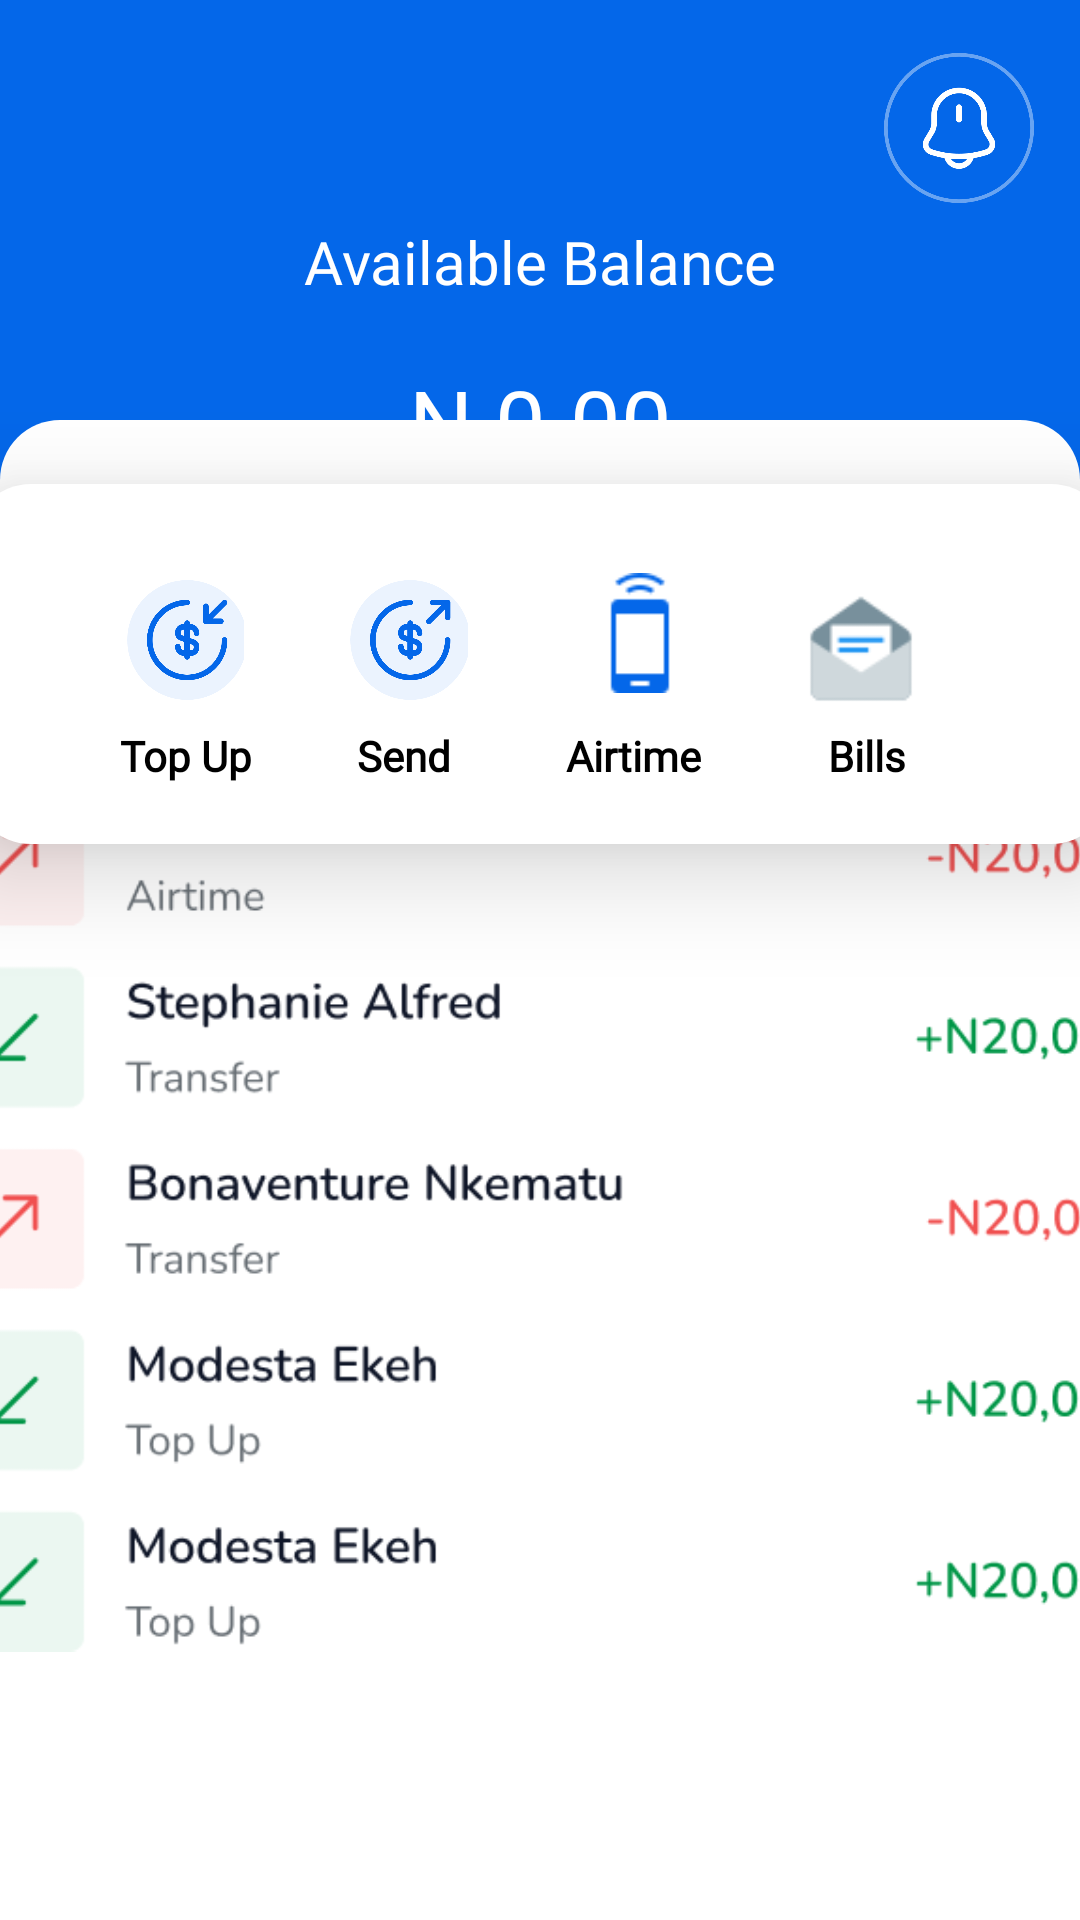

Named icons in this screenshot (1080px x 1920px) and their bounding boxes, bbox=(x1, y1, x2, y2):
walletnotification: bbox=(884, 53, 1034, 203)
